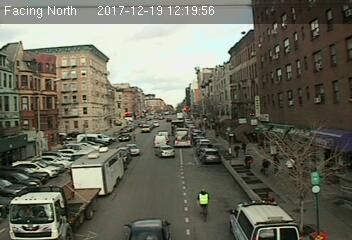bicycle: (195, 189, 211, 223)
car: (200, 147, 218, 162), (154, 145, 174, 157), (124, 143, 139, 156), (118, 134, 130, 142)
pedestrian: (260, 158, 268, 180)
police: (226, 199, 299, 240)
truck: (6, 179, 100, 238), (71, 149, 124, 192)
